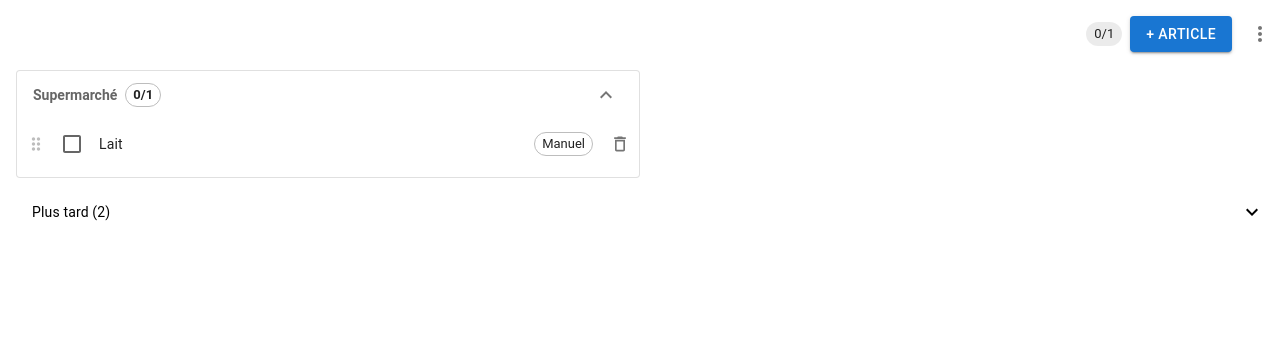
Test: GroceryListView › lines deferred by buyAfter (MAG-120) › a « Plus tard » section counts the deferred lines and shows them with their date on demand
This screenshot has width=1284, height=355.
Expected: the text "Lait" is shown, [99, 136, 123, 152]
Expected: the text "Plus tard (2)" is shown, [32, 204, 110, 220]
Click the button "Plus tard (2)" at (71, 212), box [16, 194, 1272, 230]
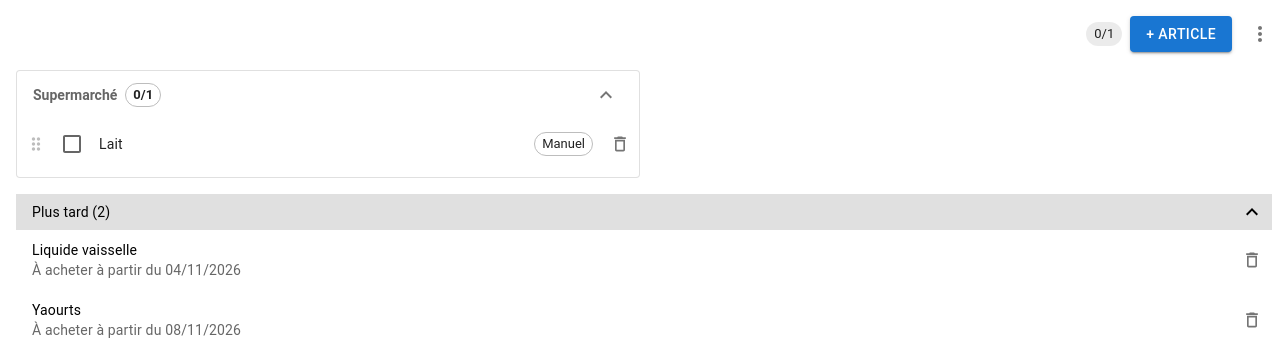
Expected: the list item "Liquide vaisselle" reads "Liquide vaisselle À acheter à partir du 04/11/2026", [32, 262, 241, 278]
Expected: the text "Yaourts" is shown, [32, 302, 81, 318]
